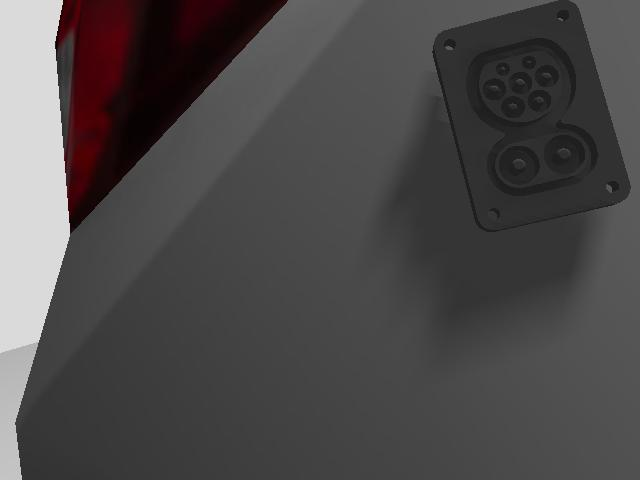EV-socket: (431, 0, 632, 237)
